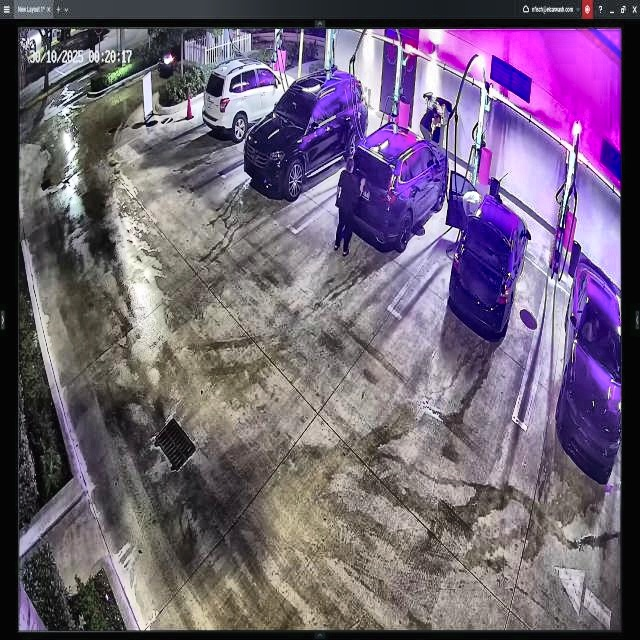Car: (244, 70, 366, 198), (447, 170, 531, 339), (348, 122, 447, 247)
